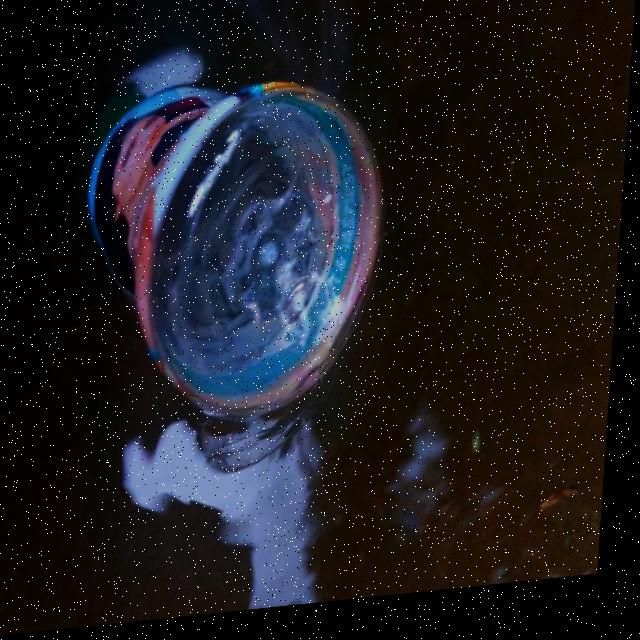waterbottle: (53, 8, 393, 440)
